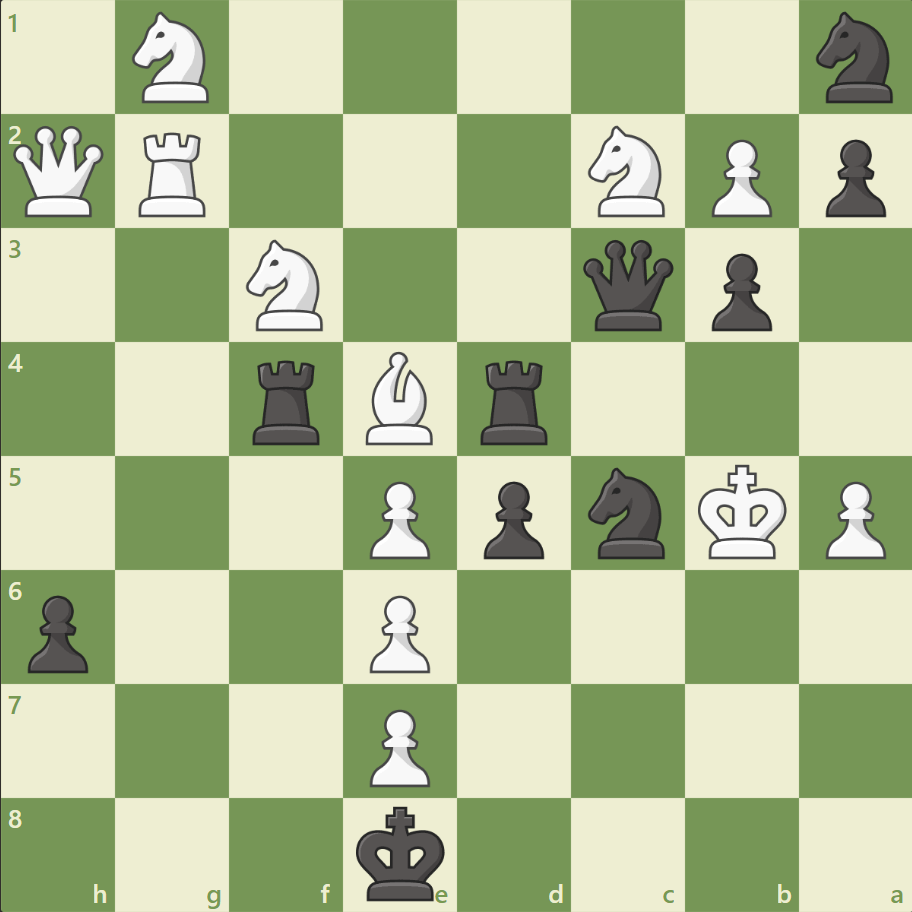B: (358, 347, 442, 449)
K: (692, 458, 792, 566)
N: (124, 7, 222, 110), (238, 234, 335, 337), (579, 121, 676, 223)
P: (701, 132, 776, 223), (361, 700, 435, 791), (361, 586, 435, 677), (815, 473, 889, 564), (361, 473, 435, 564)
Q: (10, 122, 109, 222)
R: (133, 125, 215, 222)
k: (351, 798, 451, 906)
n: (579, 461, 676, 564), (806, 7, 903, 110)
p: (20, 586, 95, 677), (474, 473, 549, 564), (701, 246, 776, 337), (815, 132, 889, 223)
q: (578, 236, 677, 335)
r: (473, 352, 556, 449), (246, 352, 329, 449)
